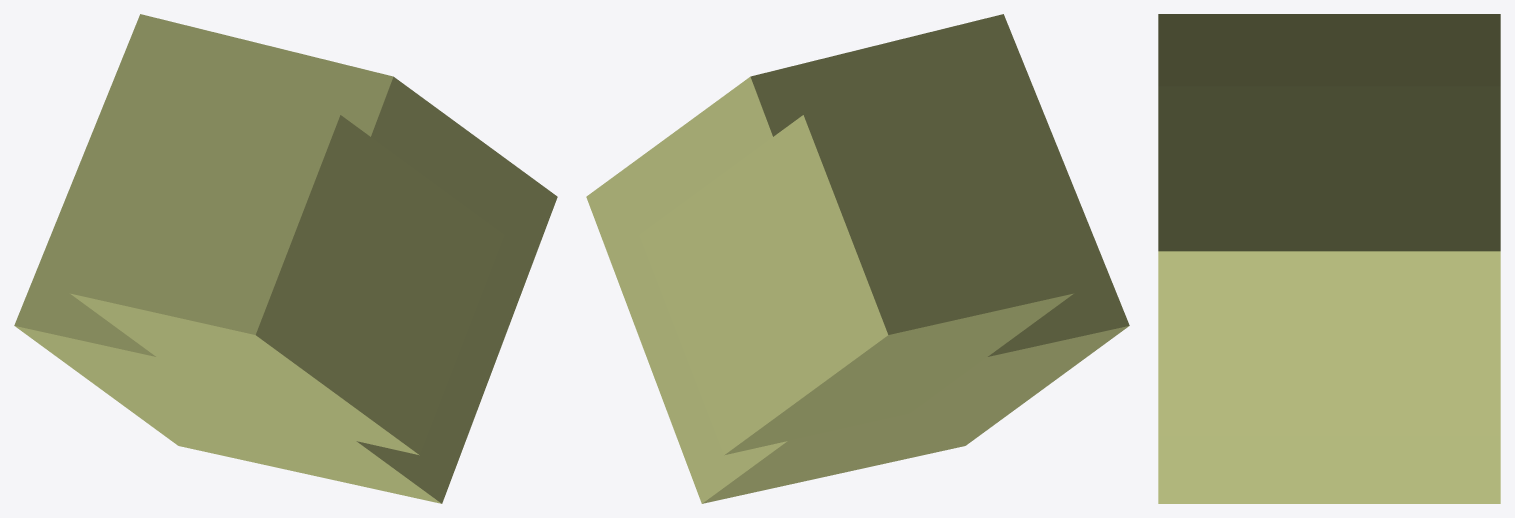
The picture shows the model from 3 angles, left to right: view 1: azimuth 30°, elevation 25°; view 2: azimuth 150°, elevation 25°; view 3: azimuth 270°, elevation 25°; orthographic projection. The views are drawn at different scales.
Visible parts, largest first — view 1: 0_1_3_2_2_2_2_0_1_2; view 2: 0_1_3_2_2_2_2_0_1_2; view 3: 0_1_3_2_2_2_2_0_1_2.
Part boxes in pixels (bbox=[...]): 0_1_3_2_2_2_2_0_1_2: bbox=[14, 14, 557, 503]; 0_1_3_2_2_2_2_0_1_2: bbox=[586, 14, 1129, 503]; 0_1_3_2_2_2_2_0_1_2: bbox=[1158, 14, 1500, 503].
Size of the model in its own units: 12 by 12.2 by 9.
